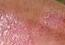plaque psoriasis: (0, 0, 47, 45), (42, 11, 65, 38)
